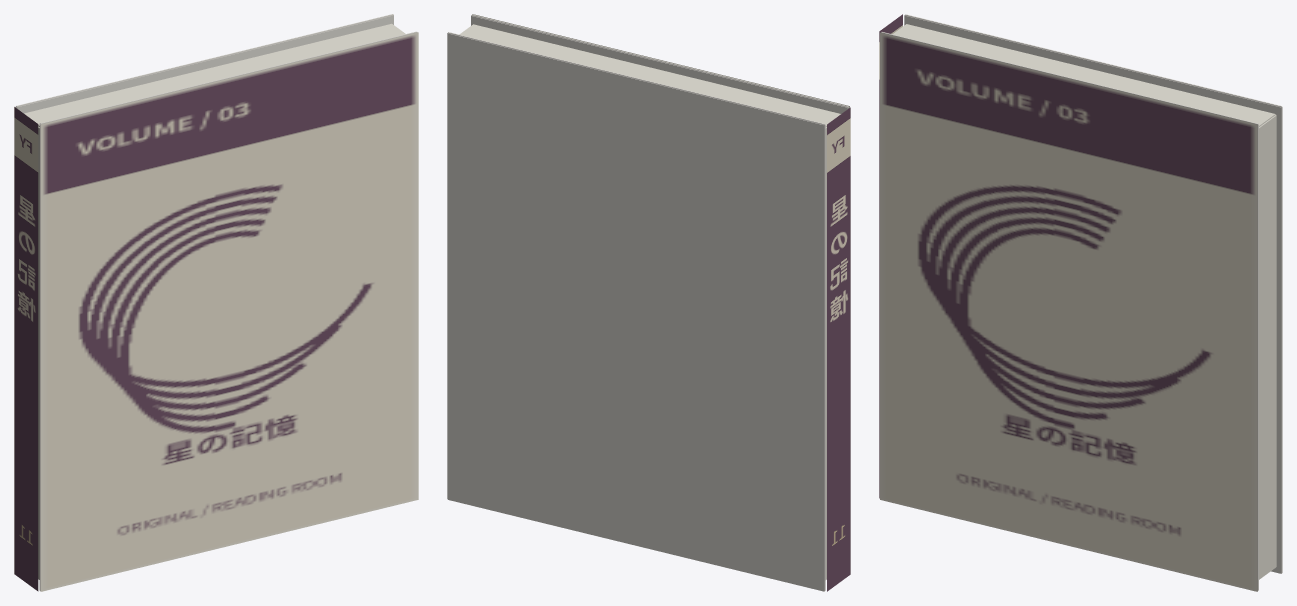
Rendered from sku_v23_book_3_B.glb.
The picture shows the model from 3 angles, left to right: view 1: azimuth 30°, elevation 25°; view 2: azimuth 150°, elevation 25°; view 3: azimuth 330°, elevation 25°; orthographic projection.
Visible parts, largest first — view 1: sku_v23_book_3_B_V23_original_companions, sku_v23_book_3_B_V23_printed_genre_spines, sku_v23_book_3_B_Paper_page_edges, sku_v23_book_3_B_Warm_white_coating; view 2: sku_v23_book_3_B_Warm_white_coating, sku_v23_book_3_B_V23_printed_genre_spines, sku_v23_book_3_B_Paper_page_edges; view 3: sku_v23_book_3_B_V23_original_companions, sku_v23_book_3_B_Paper_page_edges, sku_v23_book_3_B_Warm_white_coating, sku_v23_book_3_B_V23_printed_genre_spines.
Boxes of the visible parts, bbox=[...] form: sku_v23_book_3_B_V23_original_companions: bbox=[40, 32, 418, 591]; sku_v23_book_3_B_V23_printed_genre_spines: bbox=[14, 107, 38, 591]; sku_v23_book_3_B_Paper_page_edges: bbox=[24, 23, 405, 579]; sku_v23_book_3_B_Warm_white_coating: bbox=[15, 14, 417, 590]; sku_v23_book_3_B_Warm_white_coating: bbox=[447, 14, 849, 591]; sku_v23_book_3_B_V23_printed_genre_spines: bbox=[827, 107, 850, 591]; sku_v23_book_3_B_Paper_page_edges: bbox=[459, 24, 840, 579]; sku_v23_book_3_B_V23_original_companions: bbox=[880, 32, 1257, 591]; sku_v23_book_3_B_Paper_page_edges: bbox=[893, 24, 1276, 579]; sku_v23_book_3_B_Warm_white_coating: bbox=[881, 14, 1282, 590]; sku_v23_book_3_B_V23_printed_genre_spines: bbox=[879, 14, 902, 498].
Bounding box in the file's own units: 0.2364 × 0.2784 × 0.0275.
4 materials, 2 textured.
